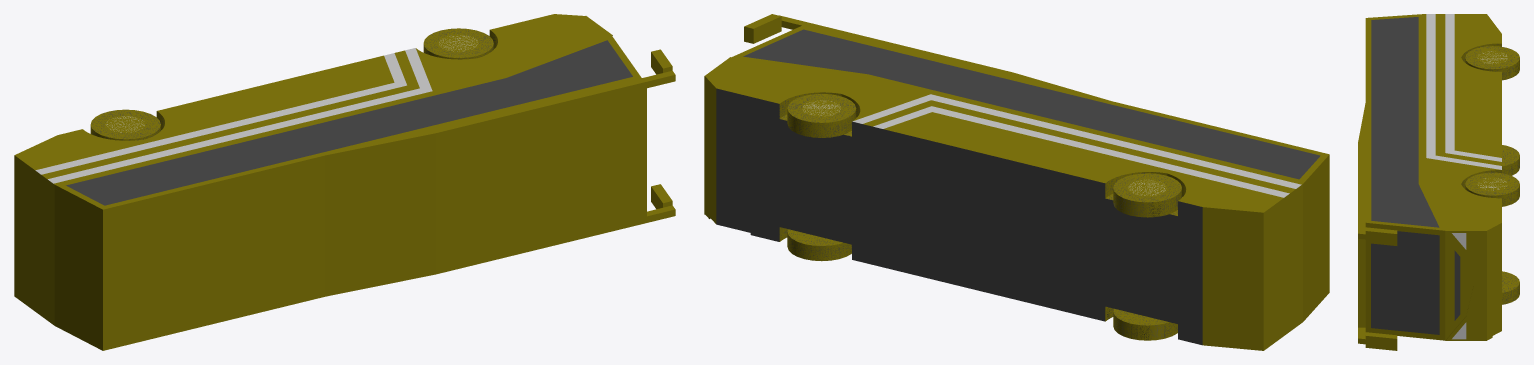
The model's file is bus_2.dae.
3 renders of one model, left to right at view 1: azimuth 30°, elevation 25°; view 2: azimuth 150°, elevation 25°; view 3: azimuth 270°, elevation 25°, orthographic. The views are drawn at different scales.
Visible parts, largest first — view 1: coords_ME_ID31_MA___auto_9, coords_ME_ID65_MA___auto_, coords_ME_ID53_MA___auto_2, coords_ME_ID151_MA___auto_2, coords_ME_ID3_MA___auto_9, coords_ME_ID25_MA___auto_9, coords_ME_ID91_MA___auto_9, coords_ME_ID37_MA___auto_9; view 2: coords_ME_ID103_MA___auto_, coords_ME_ID31_MA___auto_9, coords_ME_ID65_MA___auto_, coords_ME_ID53_MA___auto_2, coords_ME_ID151_MA___auto_2, coords_ME_ID3_MA___auto_9, coords_ME_ID25_MA___auto_9, coords_ME_ID19_MA___auto_9, coords_ME_ID13_MA___auto_9, coords_ME_ID3_MA___auto_, coords_ME_ID25_MA___auto_, coords_ME_ID91_MA___auto_9 (+1 smaller); view 3: coords_ME_ID31_MA___auto_9, coords_ME_ID65_MA___auto_, coords_ME_ID71_MA___auto_, coords_ME_ID53_MA___auto_2, coords_ME_ID151_MA___auto_2, coords_ME_ID25_MA___auto_9, coords_ME_ID3_MA___auto_9, coords_ME_ID19_MA___auto_9, coords_ME_ID13_MA___auto_9, coords_ME_ID121_MA___auto_, coords_ME_ID37_MA___auto_9, coords_ME_ID91_MA___auto_9 (+5 smaller).
Part boxes in pixels (x1,y1,x2,y2): coords_ME_ID31_MA___auto_9: (14, 14, 675, 350); coords_ME_ID65_MA___auto_: (66, 40, 632, 205); coords_ME_ID53_MA___auto_2: (48, 48, 432, 183); coords_ME_ID151_MA___auto_2: (35, 53, 406, 174); coords_ME_ID3_MA___auto_9: (423, 28, 497, 59); coords_ME_ID25_MA___auto_9: (90, 109, 164, 140); coords_ME_ID91_MA___auto_9: (105, 116, 145, 132); coords_ME_ID37_MA___auto_9: (438, 34, 478, 51); coords_ME_ID103_MA___auto_: (716, 88, 1202, 345); coords_ME_ID31_MA___auto_9: (704, 14, 1329, 350); coords_ME_ID65_MA___auto_: (743, 29, 1320, 179); coords_ME_ID53_MA___auto_2: (852, 94, 1301, 188); coords_ME_ID151_MA___auto_2: (873, 106, 1289, 197); coords_ME_ID3_MA___auto_9: (779, 92, 860, 137); coords_ME_ID25_MA___auto_9: (1105, 172, 1186, 217); coords_ME_ID19_MA___auto_9: (779, 227, 851, 261); coords_ME_ID13_MA___auto_9: (1105, 306, 1177, 340); coords_ME_ID3_MA___auto_: (779, 92, 859, 137); coords_ME_ID25_MA___auto_: (1105, 172, 1183, 217); coords_ME_ID91_MA___auto_9: (1128, 179, 1167, 196); coords_ME_ID31_MA___auto_9: (1358, 14, 1501, 350); coords_ME_ID65_MA___auto_: (1371, 17, 1439, 227); coords_ME_ID71_MA___auto_: (1371, 231, 1439, 334); coords_ME_ID53_MA___auto_2: (1426, 14, 1501, 169); coords_ME_ID151_MA___auto_2: (1445, 14, 1501, 161); coords_ME_ID25_MA___auto_9: (1461, 43, 1519, 80); coords_ME_ID3_MA___auto_9: (1461, 170, 1519, 206); coords_ME_ID19_MA___auto_9: (1502, 271, 1519, 304); coords_ME_ID13_MA___auto_9: (1502, 145, 1519, 175); coords_ME_ID121_MA___auto_: (1454, 250, 1460, 320); coords_ME_ID37_MA___auto_9: (1477, 177, 1507, 190); coords_ME_ID91_MA___auto_9: (1477, 51, 1508, 64).
Size of the model in its own units: 79.92 by 19.48 by 24.47.
